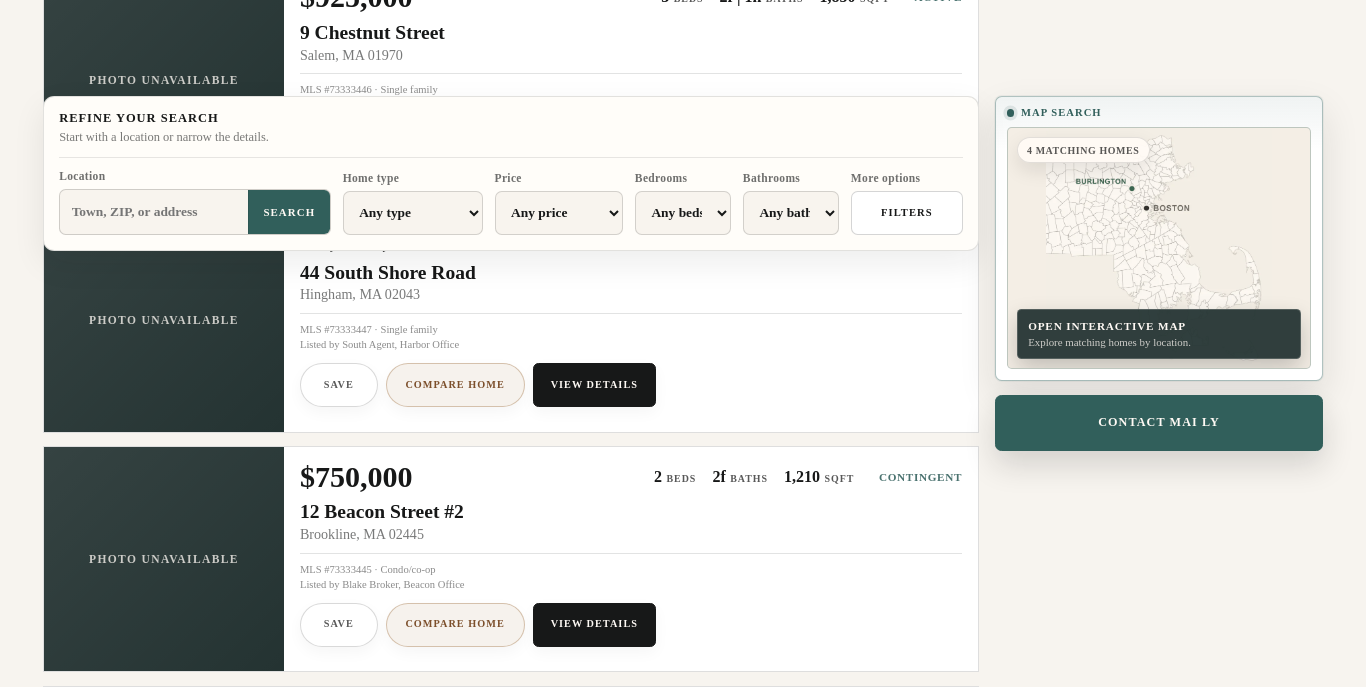
PropertiesSearch › builds the saved-home email in save order with complete property details
(page scrolled)
Click the button "Save" below "South Agent". click: (339, 385)
box: [300,363,378,407]
(page scrolled)
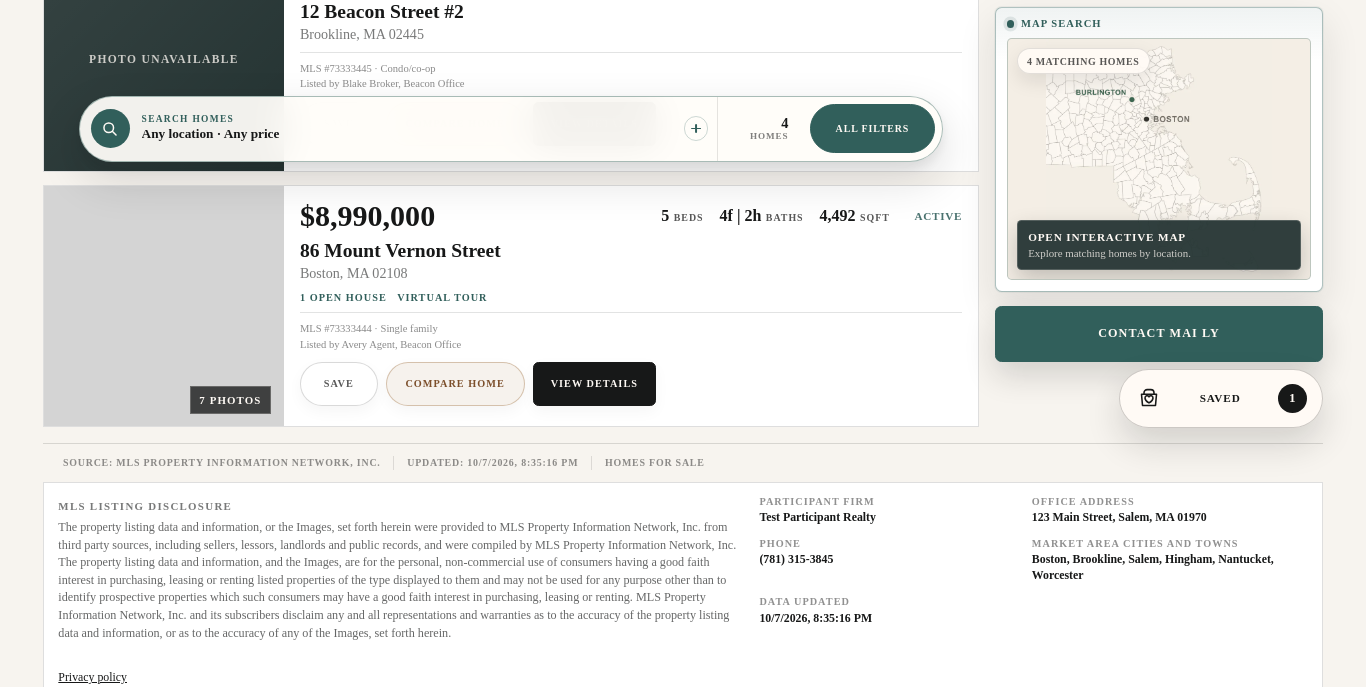
Click the button "Save". click: (339, 384)
box: [300,362,378,406]
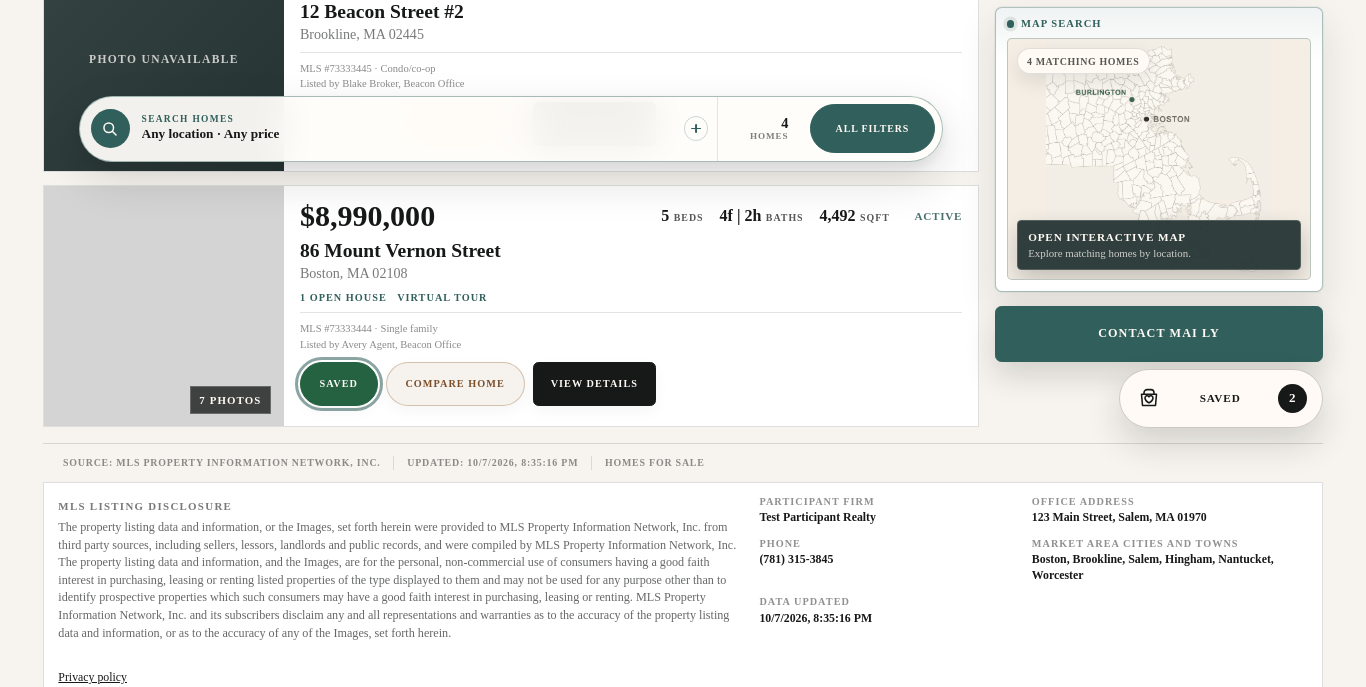
Click the button with aria-label "show saved homes, 2 saved". click: (1221, 398)
box: [1125,375,1317,421]
(page scrolled)
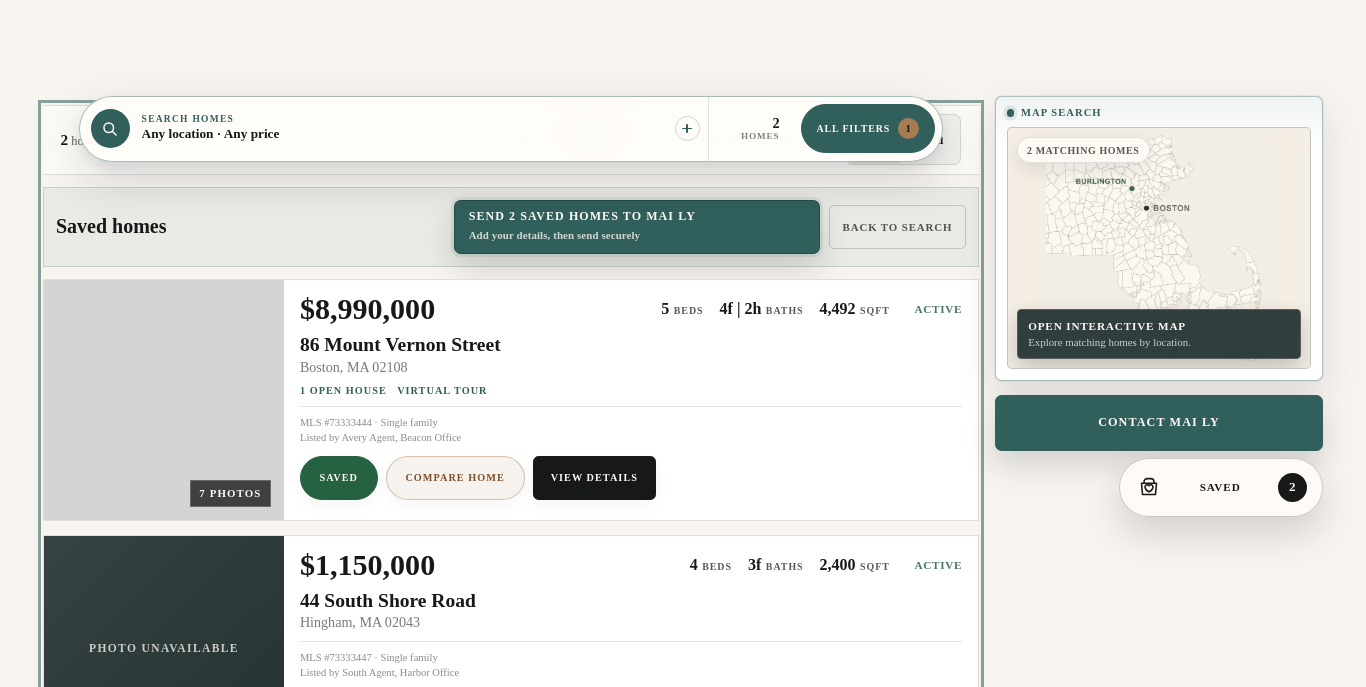
Click the button "Send 2 saved homes to Mai Ly". click: (637, 227)
box: [454,200,820,254]
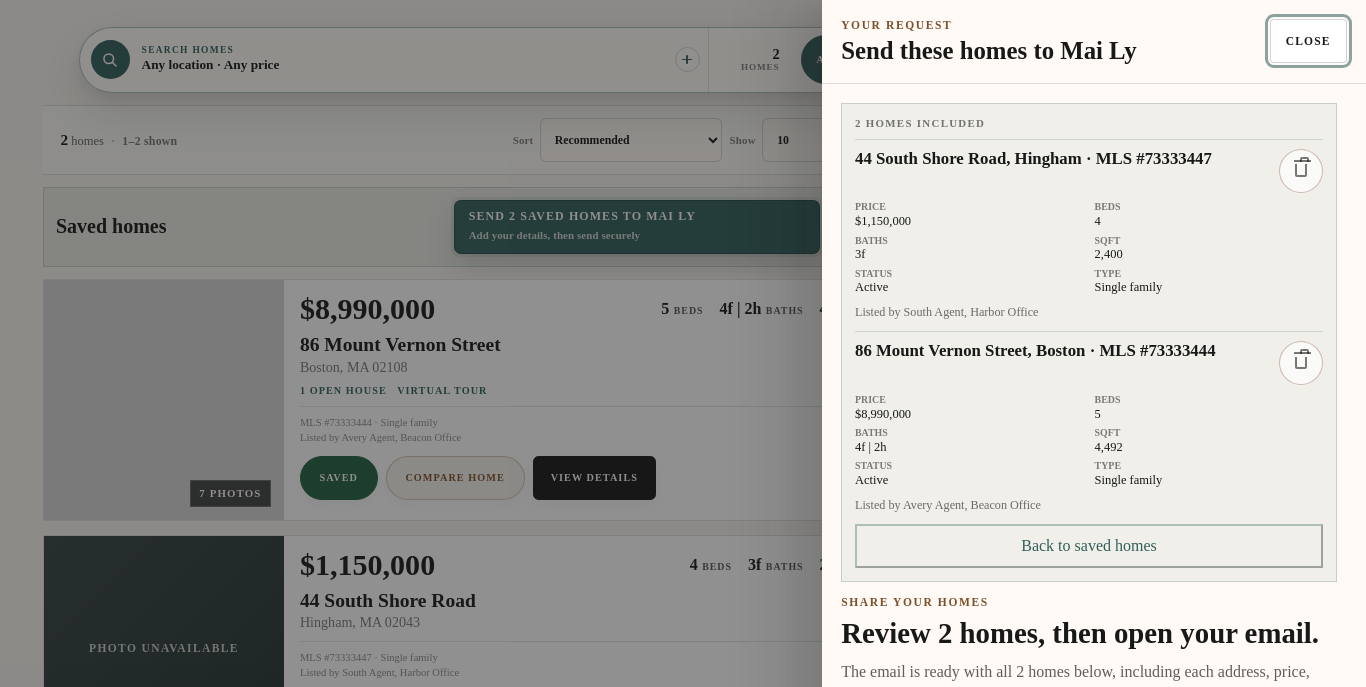
Now the text "2 homes included" is shown, box [855,117,985,129]
